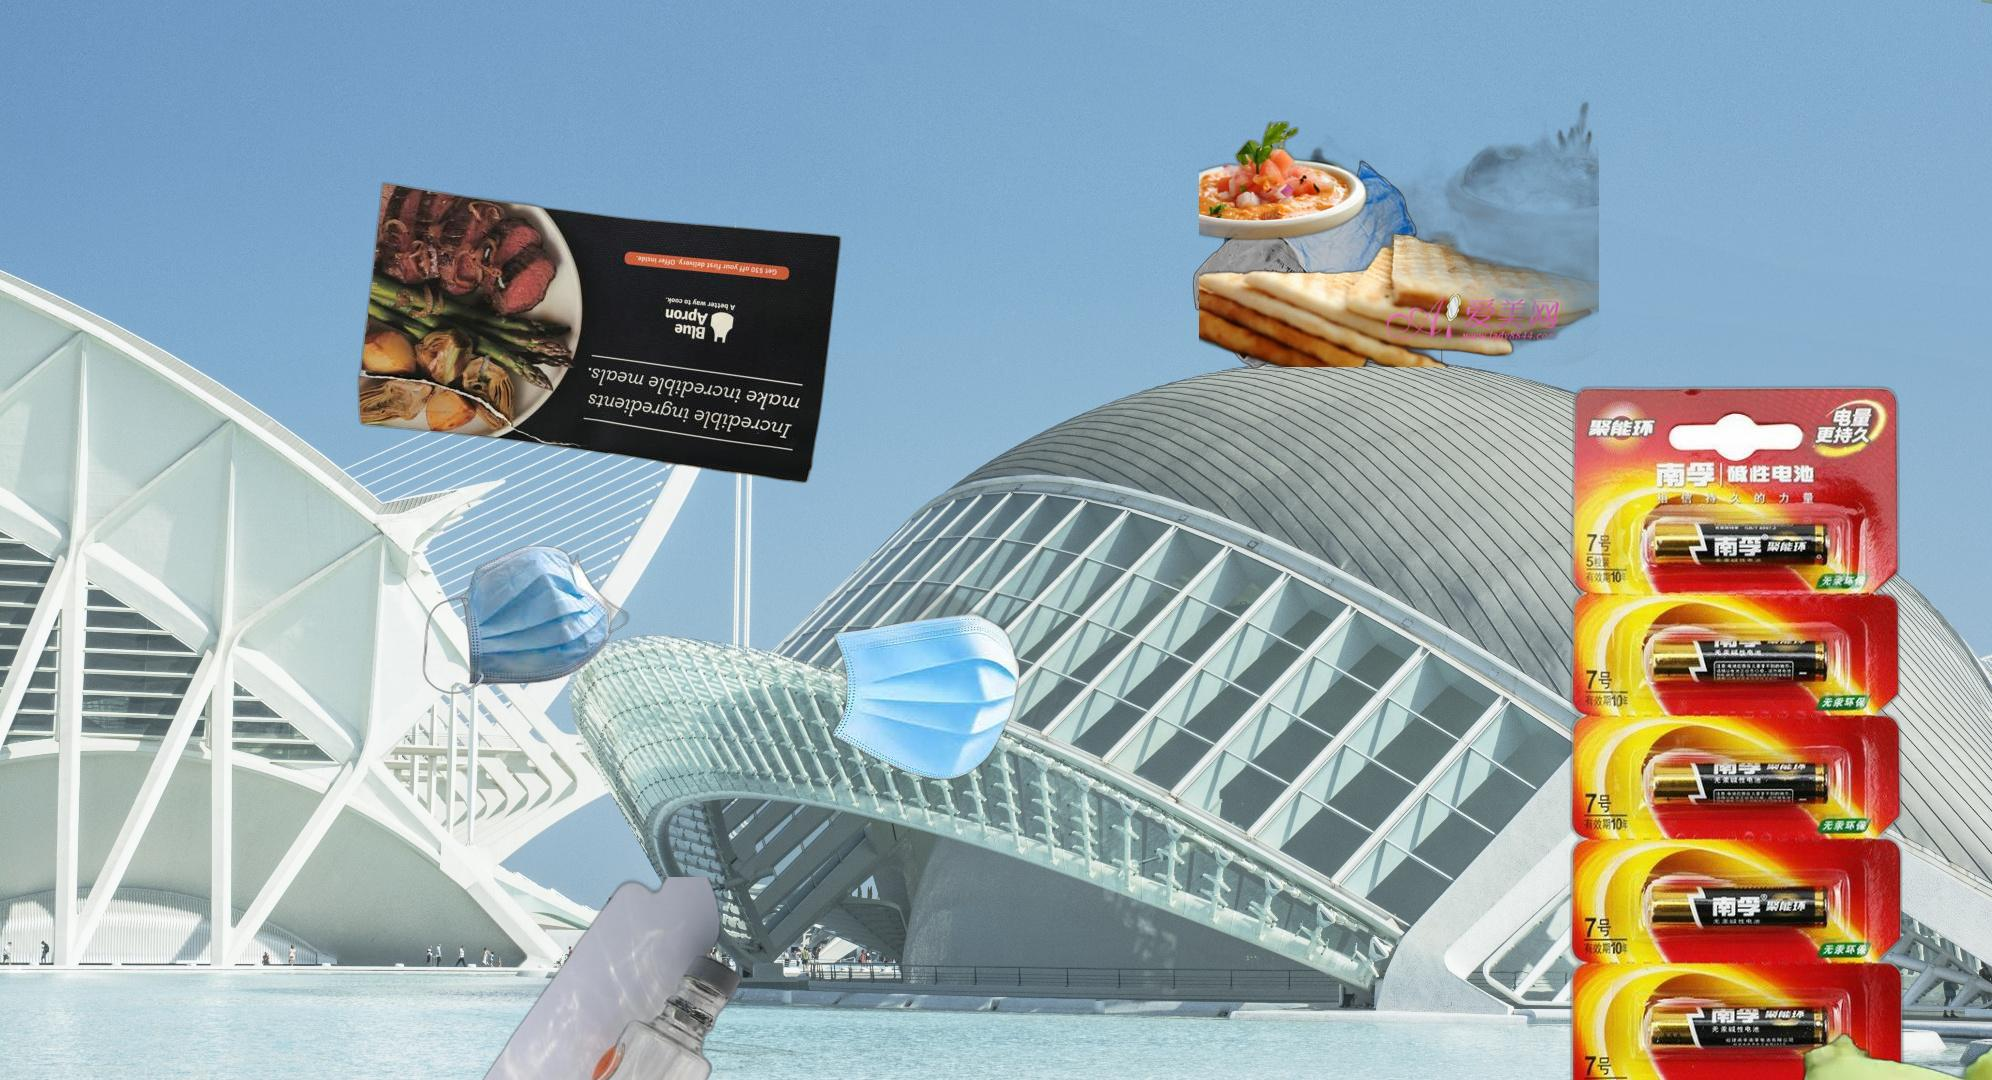battery: (1562, 380, 1910, 1080)
biological: (1199, 67, 1598, 367), (1791, 1028, 1992, 1080)
glass: (444, 877, 746, 1080)
paper: (354, 181, 844, 485)
plastic-bag: (1190, 157, 1420, 370)
trash: (828, 588, 1019, 781), (420, 543, 632, 697)
